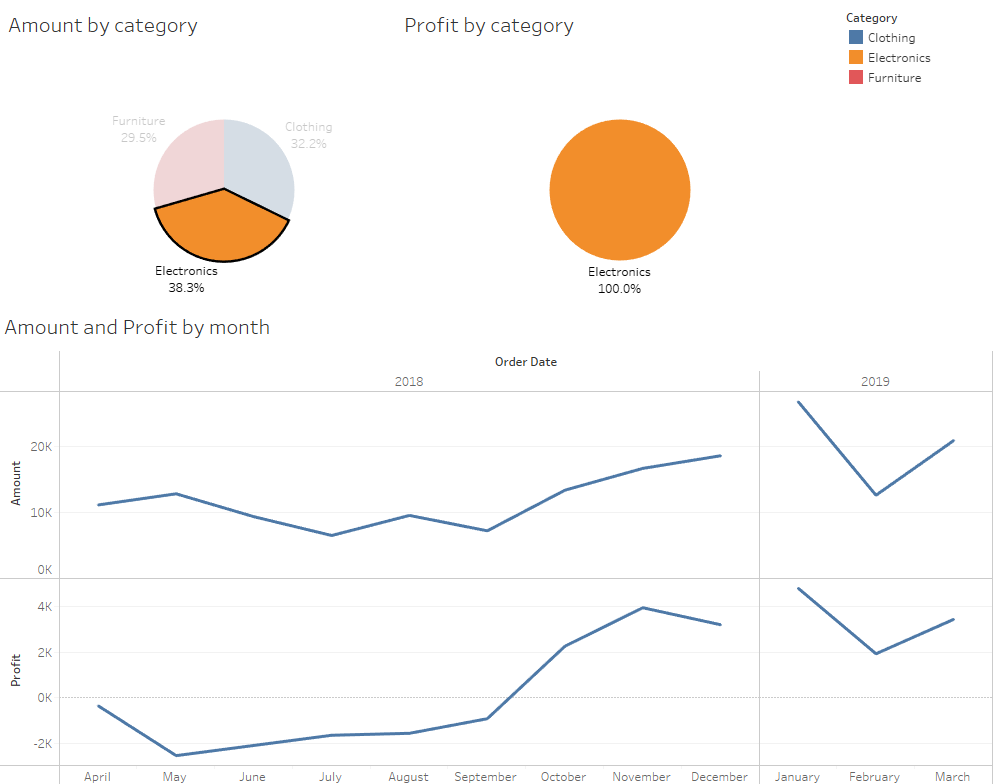

Layout of this report page (visuals, bound fields, positions):
{"tool":"tableau","page":{"name":"Dashboard 1","canvas":[1000,800],"ordinal":0},"visuals":[{"type":"worksheet","title":"Sheet 1","mark":"Pie","box":[6,14,440,325]},{"type":"worksheet","title":"Sheet 2","mark":"Pie","box":[402,14,440,325]},{"type":"legend","title":"Sheet 1","param":"[federated.0m88nqi1w2g4np1cgb4lk1v1m7ds].[none:Category:nk]","box":[848,17,140,78]},{"type":"worksheet","title":"Sheet 3","mark":"Automatic","rows":["Amount","Profit"],"cols":["Order Date","Order Date"],"box":[2,316,993,479]}]}

Visuals, with their boxes in screenshot pixels (x1, y1, x2, y2), scaled from the page's 1000x800 canvas onto the 995x784 screenshot:
"Sheet 1" worksheet (Pie marks): 6 14 444 332
"Sheet 2" worksheet (Pie marks): 400 14 838 332
"Sheet 1" legend: 844 17 983 93
"Sheet 3" worksheet: 2 310 990 779
